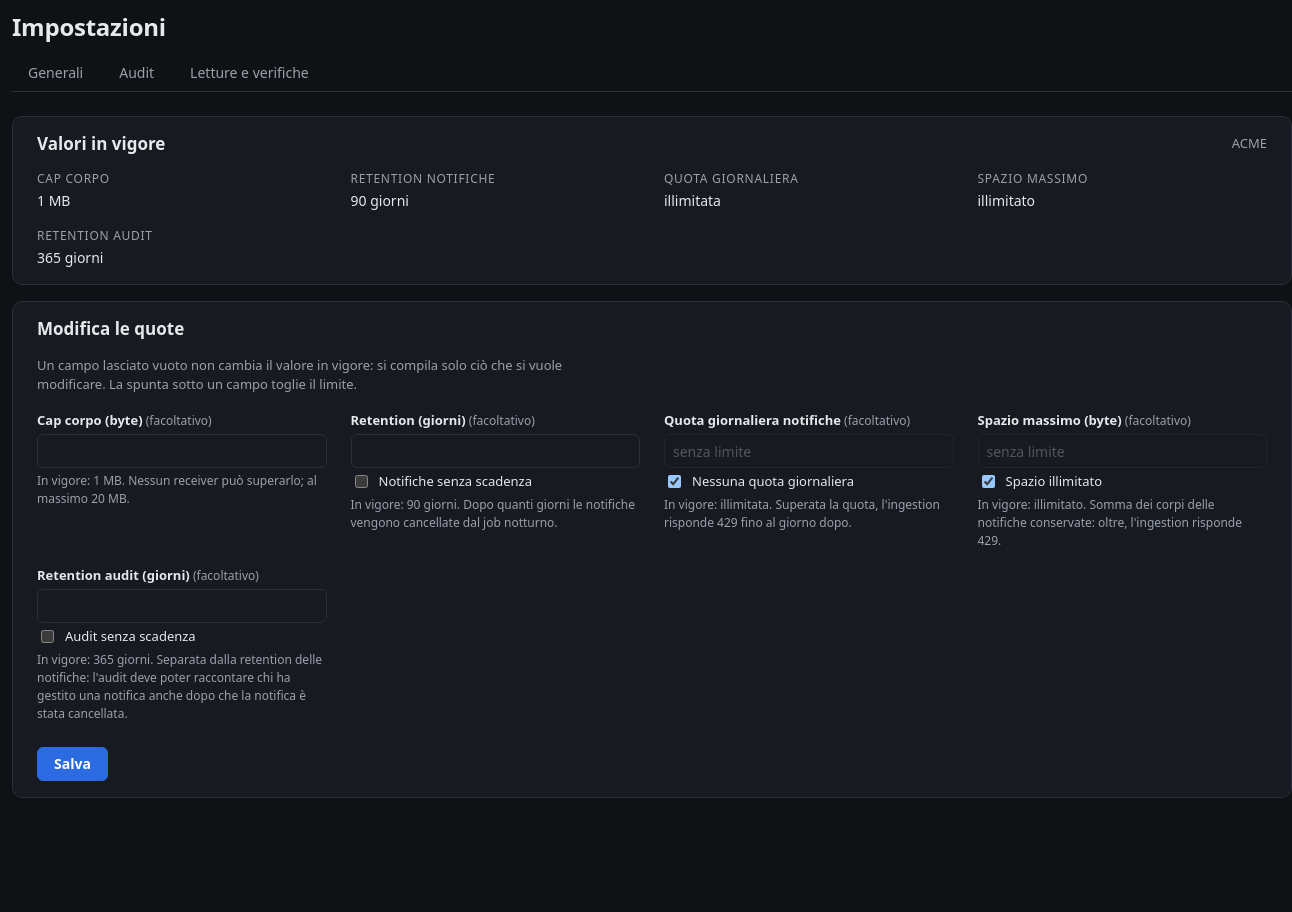
Scenario: SettingsPage › il valore appena sopra il bigint viene fermato prima della richiesta
Click the checkbox labelled "Spazio illimitato".
click(988, 482)  # box x1=982 y1=475 x2=994 y2=488
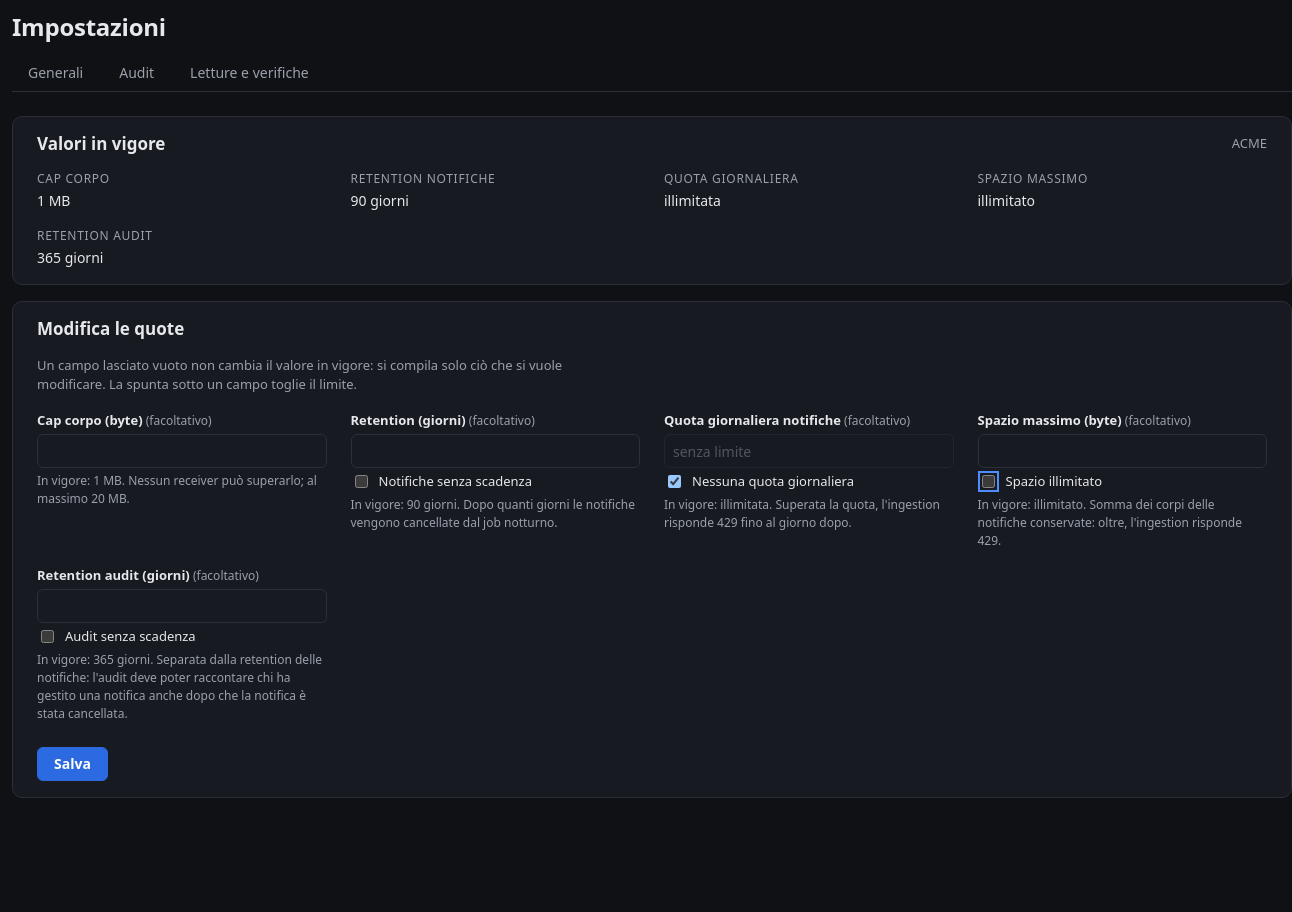
Type "9223372036854775808" into the number field labelled "Spazio massimo (byte)".
click(1122, 451); type("9223372036854775808")  # box x1=978 y1=434 x2=1267 y2=468
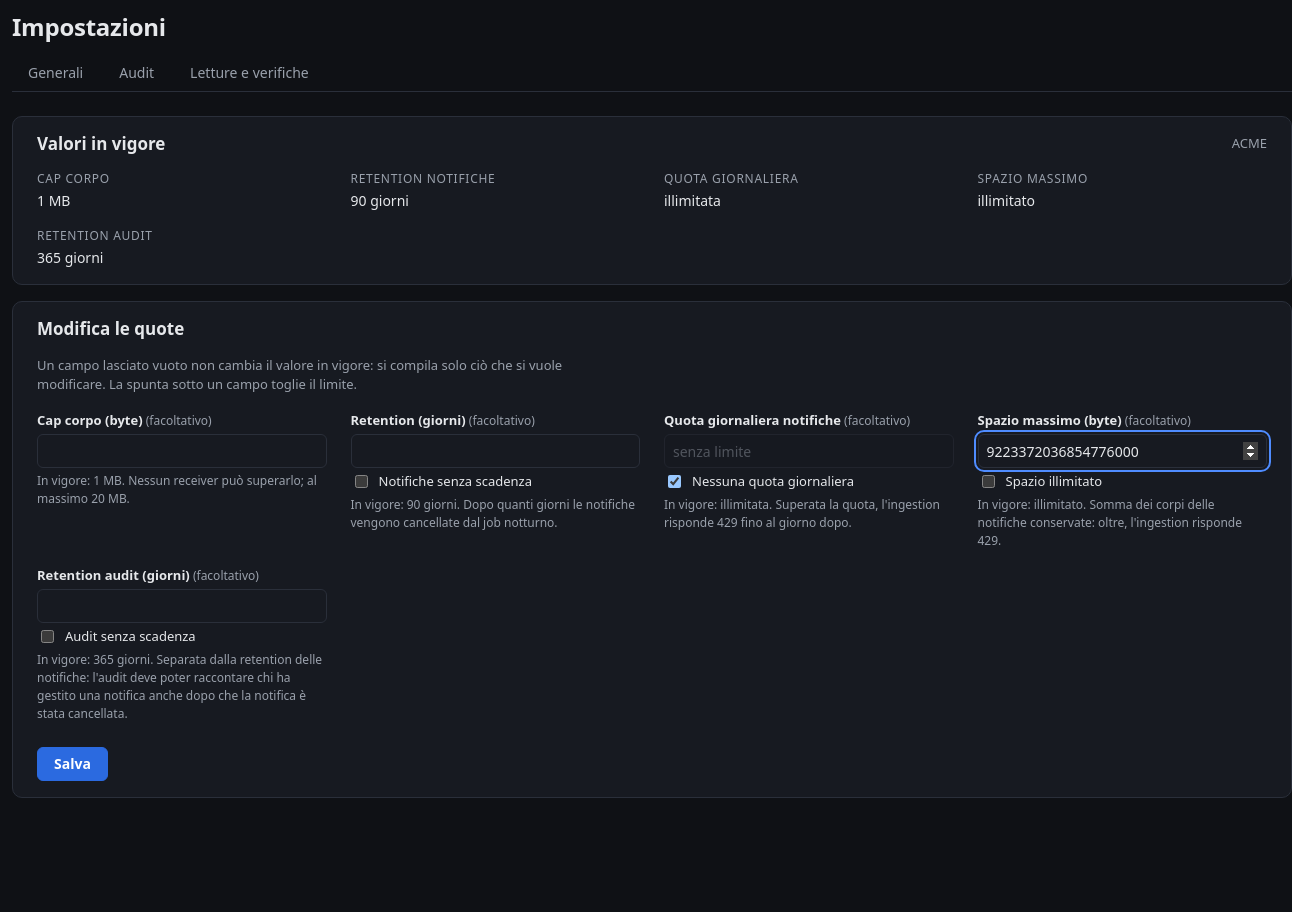
Click the button "Salva".
click(72, 764)  # box x1=37 y1=746 x2=108 y2=781
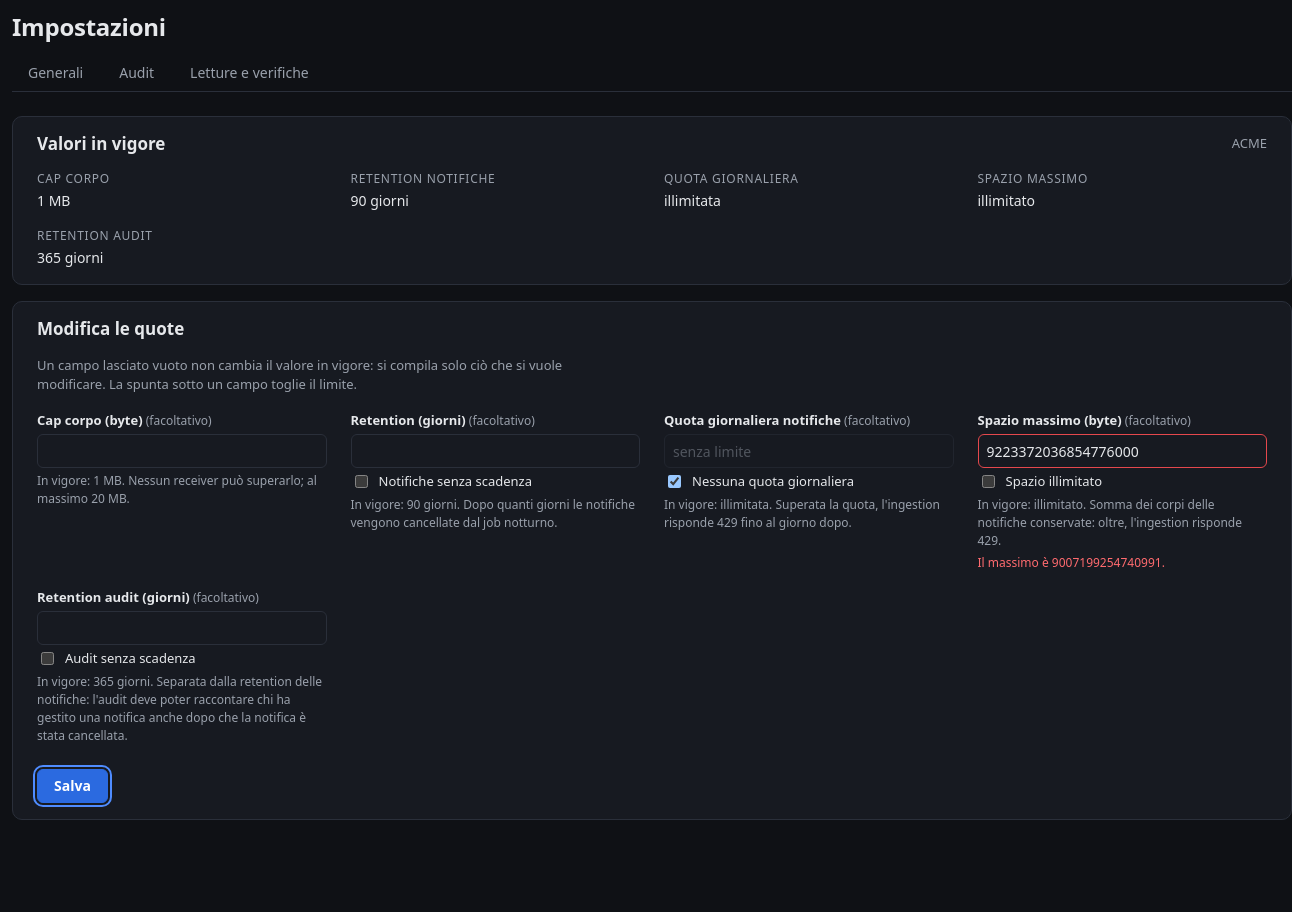
Expected: the text "Il massimo è 9007199254740991." is shown, x1=978 y1=554 x2=1165 y2=570
